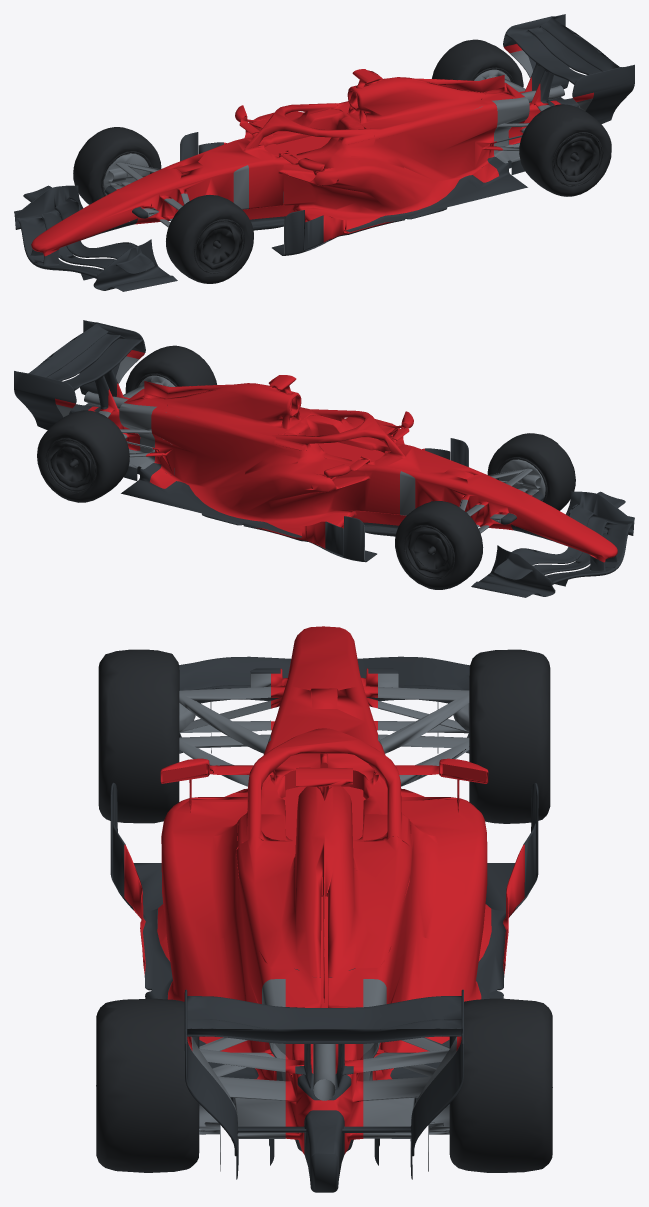
3 renders of one model, top to bottom at view 1: azimuth 30°, elevation 25°; view 2: azimuth 150°, elevation 25°; view 3: azimuth 270°, elevation 25°, orthographic. The views are drawn at different scales.
Parts seen in each view (by area): view 1: chassis-part, front-wing-part, rear-left-wheel-part, front-left-wheel-part, front-suspension-part, front-right-wheel-part, rear-right-wheel-part; view 2: chassis-part, front-wing-part, rear-right-wheel-part, front-right-wheel-part, front-suspension-part, front-left-wheel-part, rear-left-wheel-part; view 3: chassis-part, front-wing-part, front-suspension-part, rear-right-wheel-part, rear-left-wheel-part, front-right-wheel-part, front-left-wheel-part.
Boxes of the visible parts, box(x1,y1,x2,y2) form: chassis-part: box(31, 44, 593, 256); front-wing-part: box(14, 14, 634, 291); rear-left-wheel-part: box(519, 104, 611, 196); front-left-wheel-part: box(166, 195, 253, 283); front-suspension-part: box(103, 50, 592, 254); front-right-wheel-part: box(73, 127, 161, 204); rear-right-wheel-part: box(432, 39, 523, 87); chassis-part: box(55, 350, 617, 562); front-wing-part: box(14, 320, 634, 597); rear-right-wheel-part: box(37, 410, 129, 502); front-right-wheel-part: box(395, 501, 483, 589); front-suspension-part: box(56, 356, 545, 560); front-left-wheel-part: box(487, 433, 575, 510); rear-left-wheel-part: box(125, 345, 216, 393); chassis-part: box(124, 626, 524, 1154); front-wing-part: box(110, 656, 538, 1192); front-suspension-part: box(179, 673, 469, 1152); rear-right-wheel-part: box(449, 998, 552, 1172); rear-left-wheel-part: box(96, 998, 199, 1172); front-right-wheel-part: box(469, 649, 550, 823); front-left-wheel-part: box(98, 649, 179, 823).
Size of the model in its own units: 5.39 by 1.1 by 1.88.
